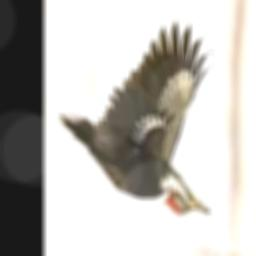Woodpecker: (59, 21, 213, 216)
